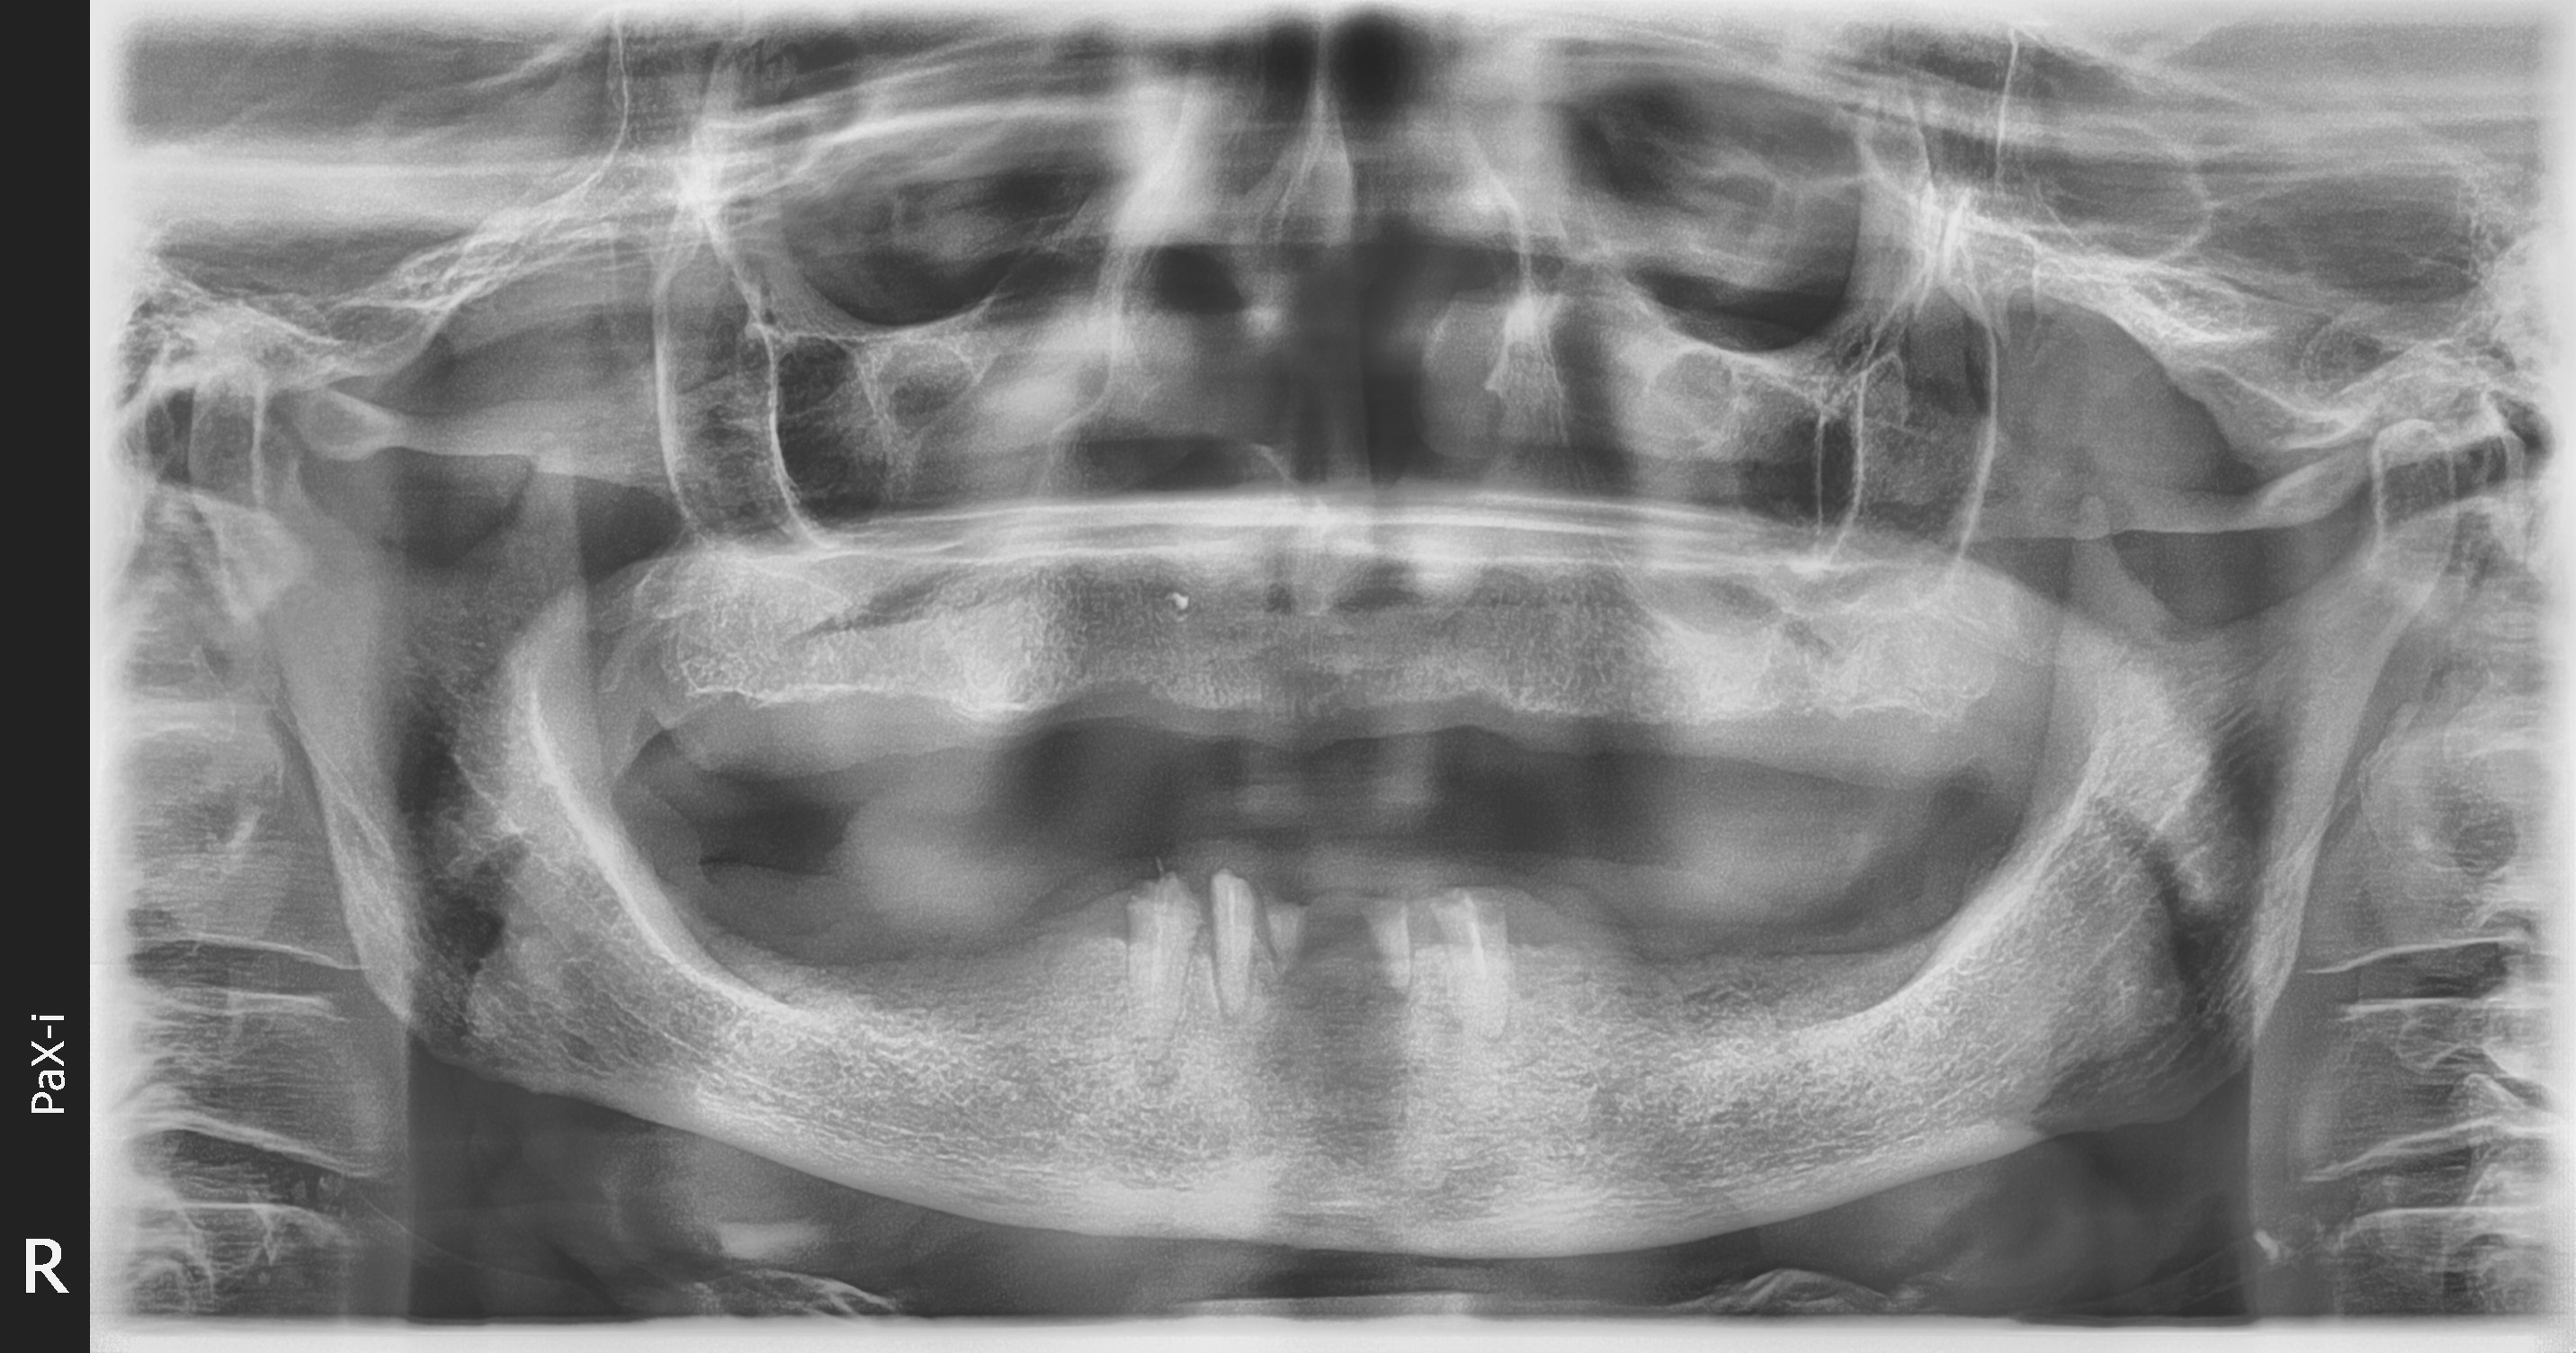API: (1116, 1021, 1184, 1108), (1457, 1017, 1530, 1067), (1370, 968, 1428, 1014), (1203, 983, 1249, 1034)
END: (1455, 878, 1489, 988), (1148, 896, 1164, 983), (1223, 876, 1235, 968)
ROT: (1443, 879, 1521, 1038), (1123, 876, 1184, 1074), (1205, 864, 1249, 987), (1361, 888, 1414, 983), (1273, 881, 1298, 961)
